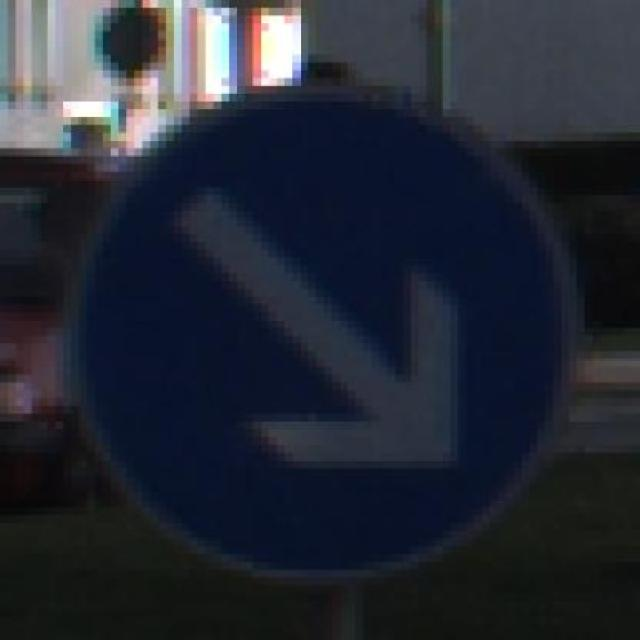Keep-Right: (78, 70, 570, 578)
